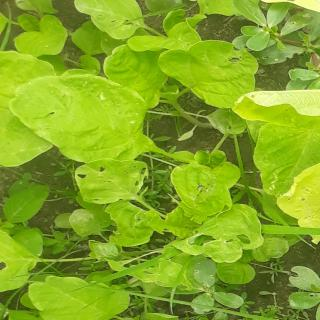kekurangan_mangan: (274, 167, 320, 230), (250, 0, 320, 13)
virus_keriting: (15, 75, 140, 148), (164, 40, 258, 93), (167, 160, 236, 220)
